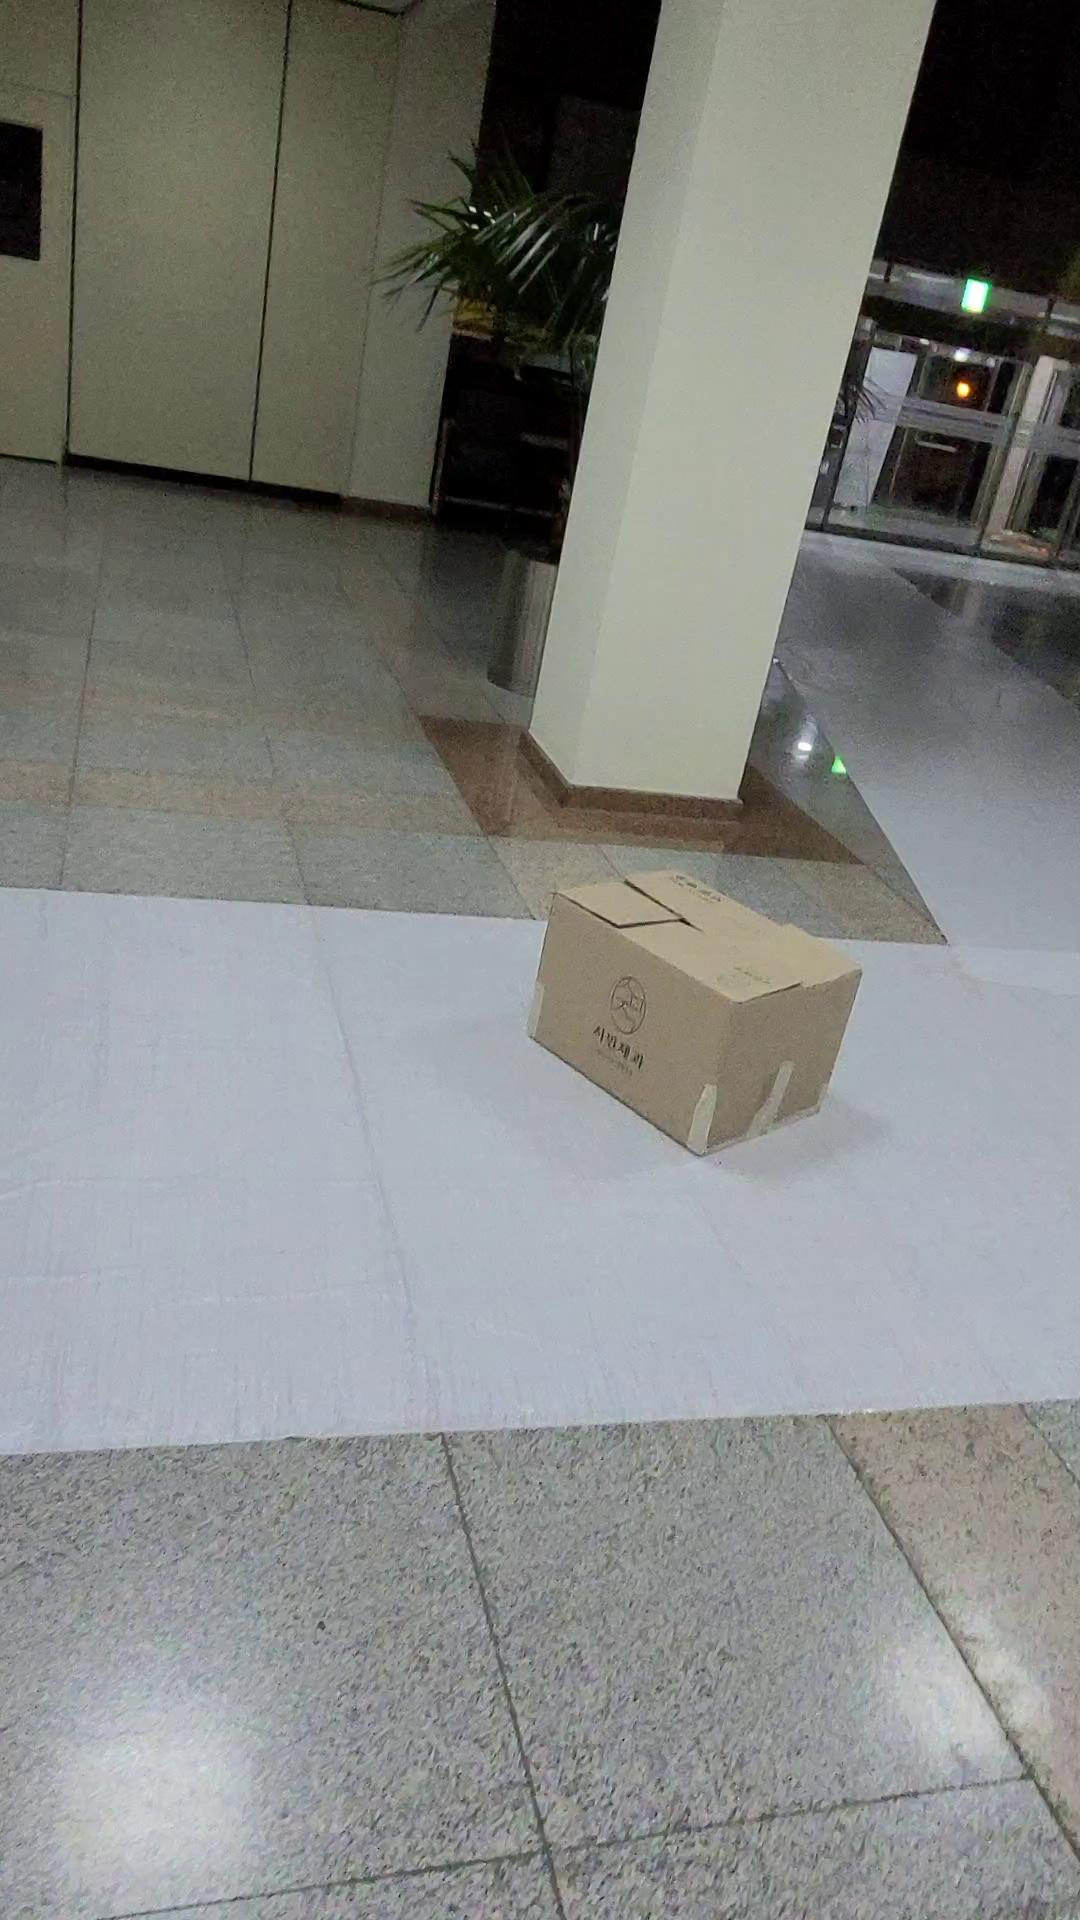Box: (513, 860, 880, 1182)
